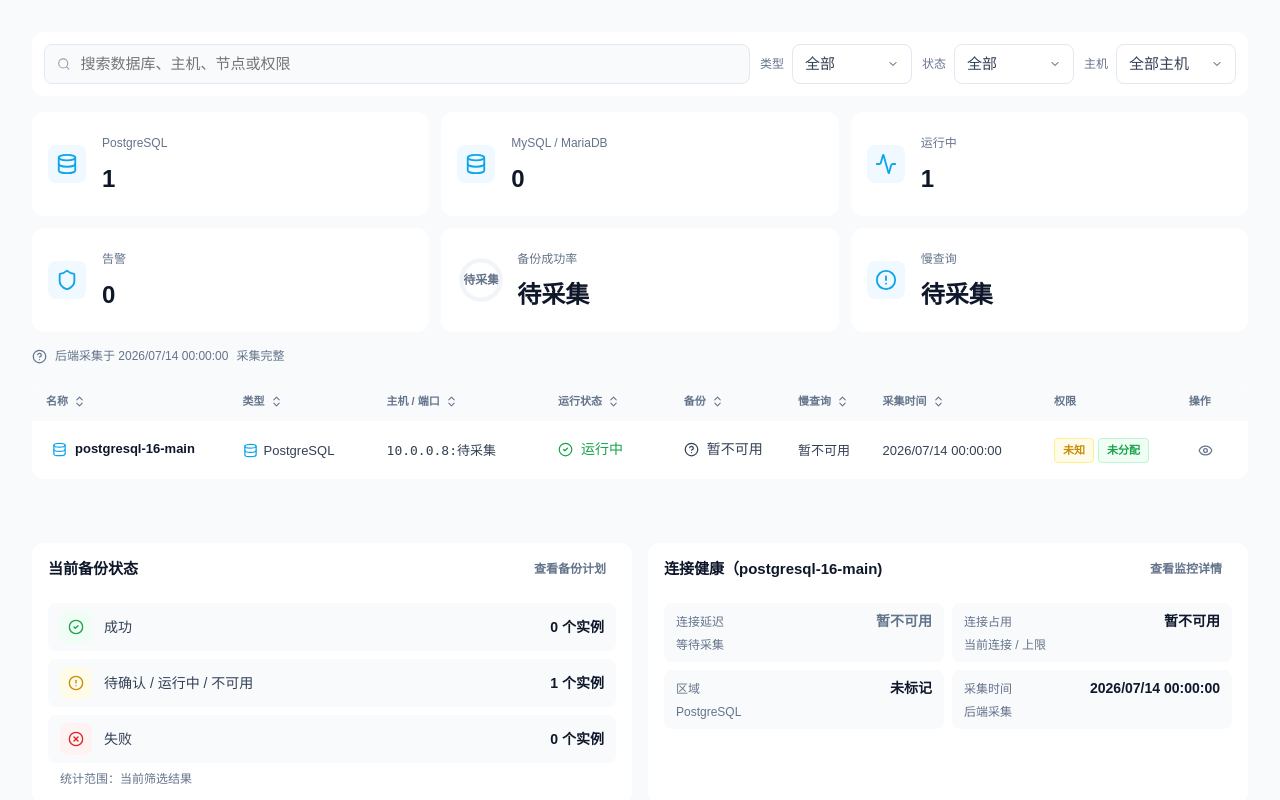
Test: database instances live page › closes stale details when a refreshed stable id disappears
Step 1. Click the button named "查看 postgresql-16-main 详情" → x=1206, y=450, box [1189, 433, 1223, 467]
Wait 10000 ms
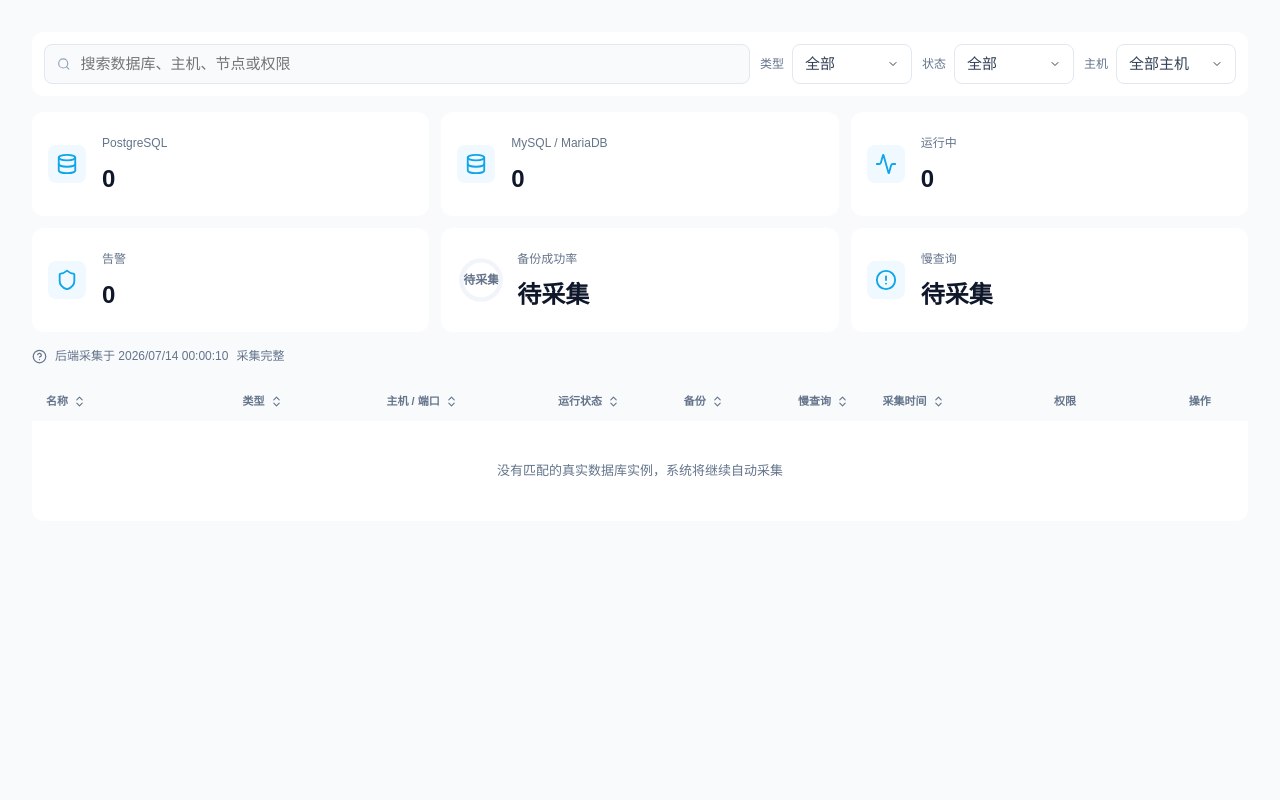
Now the text "没有匹配的真实数据库实例，系统将继续自动采集" is shown 2 times
